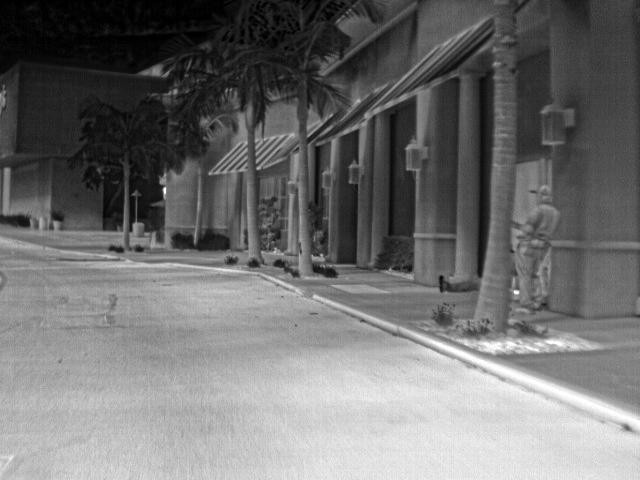person: (515, 183, 561, 313)
